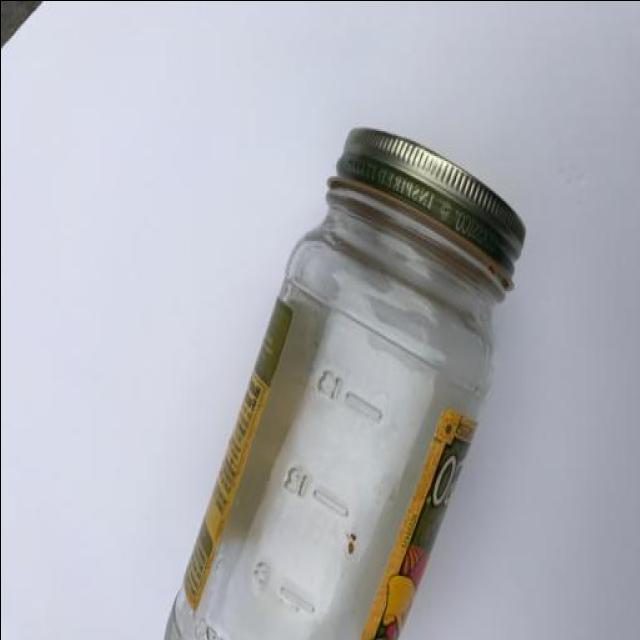glass: (158, 121, 526, 640)
